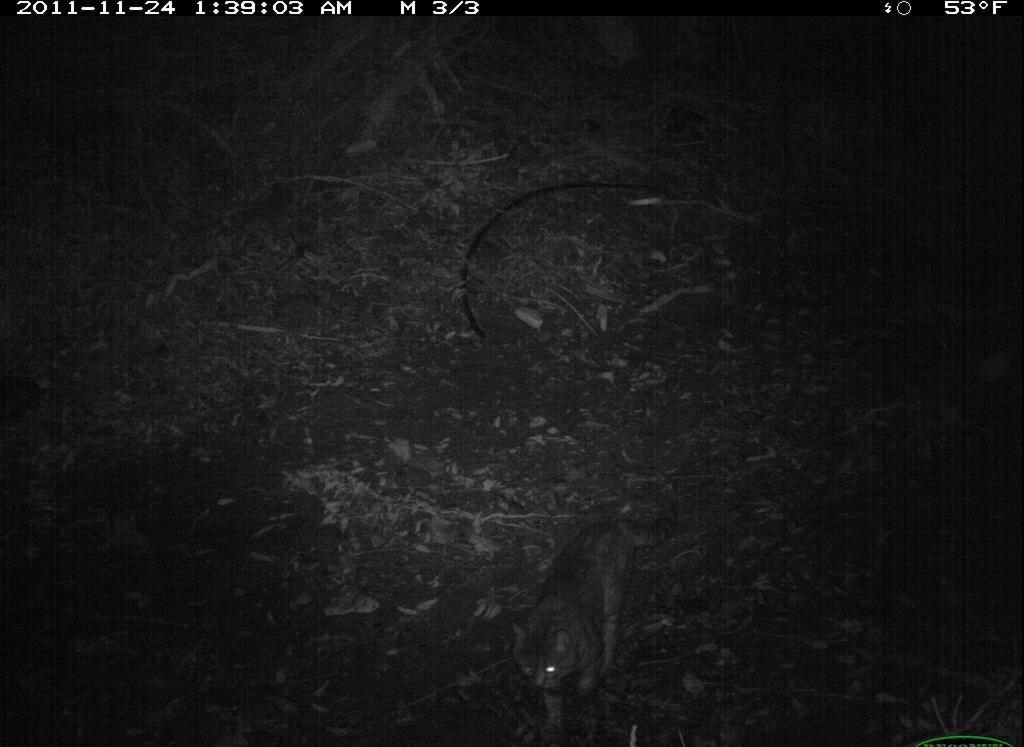cat: (493, 466, 707, 747)
